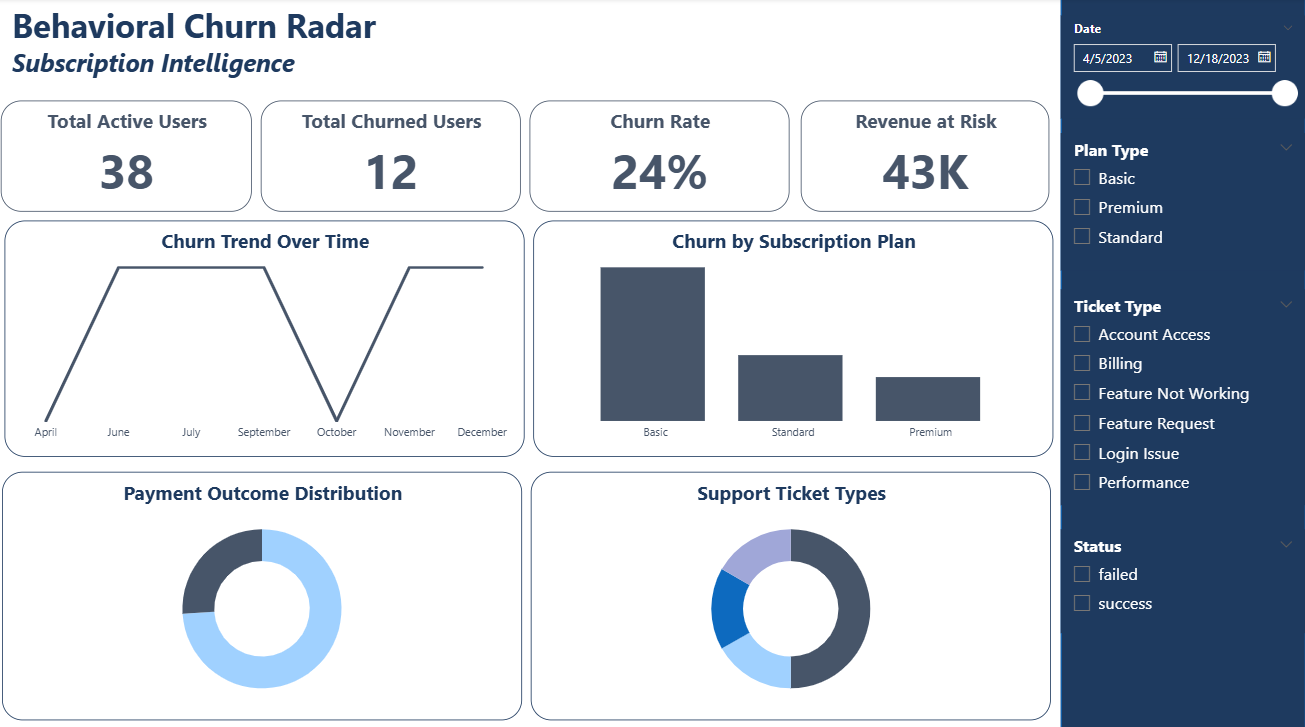

The page's visual inventory and layout, read from the dashboard file:
{"tool":"powerbi","page":{"name":"Subscription Intelligence","canvas":[1280,720],"ordinal":1},"visuals":[{"type":"textbox","box":[9.8,0,386.4,90.5],"z":0},{"type":"card","title":"Total Active Users","fields":{"Values":["CountNonNull(Subscriptions.User Id)"]},"box":[3.7,100.3,245.8,108.8],"z":1000},{"type":"card","title":"Churn Rate","fields":{"Values":["Payments.Churn Rate %"]},"box":[520.9,100.3,254.3,108.8],"z":2000},{"type":"lineChart","title":"Churn Trend Over Time","fields":{"Category":["Subscriptions.Subscription End Date.Variation.Date Hierarchy.Month"],"Y":["CountNonNull(Subscriptions.User Id)"]},"box":[7.3,217.7,508.7,231.1],"z":3000},{"type":"shape","box":[1040.6,0,239.7,720.2],"z":4000},{"type":"columnChart","title":"Churn by Subscription Plan","fields":{"Category":["Subscriptions.Plan Type"],"Y":["CountNonNull(Subscriptions.User Id)"]},"box":[524.6,217.7,508.7,231.1],"z":5000},{"type":"card","title":"Total Churned Users","fields":{"Values":["CountNonNull(Subscriptions.User Id)"]},"box":[258,100.3,254.3,108.8],"z":6000},{"type":"card","title":"Revenue at Risk","fields":{"Values":["Sum(Subscriptions.Monthly Revenue)"]},"box":[786.3,100.3,243.3,108.8],"z":7000},{"type":"donutChart","title":"Payment Outcome Distribution","fields":{"Category":["Payments.Status"],"Y":["CountNonNull(Payments.Payment Date)"]},"box":[4.9,463.5,508.7,243.3],"z":8000},{"type":"donutChart","title":"Support Ticket Types","fields":{"Category":["Support Tickets.Ticket Type"],"Y":["CountNonNull(Support Tickets.Ticket Date)"]},"box":[522.1,463.5,508.7,243.3],"z":9000},{"type":"slicer","fields":{"Values":["Subscriptions.Plan Type"]},"box":[1040.6,132.1,239.7,134.5],"z":10000},{"type":"slicer","fields":{"Values":["Support Tickets.Ticket Type"]},"box":[1040.6,284.9,239.7,211.6],"z":11000},{"type":"slicer","fields":{"Values":["Payments.Status"]},"box":[1040.6,519.7,239.7,101.5],"z":12000},{"type":"slicer","fields":{"Values":["Subscriptions.Subscription End Date"]},"box":[1040.6,17.1,239.7,100.3],"z":13000}]}

Visuals, with their boxes on the page's 1280x720 design canvas (x1, y1, x2, y2). These are canvas units, not pixel positions in the 1305x727 screenshot, which may show the page scaled, cropped or inside an application window:
textbox: 10,0,396,90
"Total Active Users" card: 4,100,250,209
"Churn Rate" card: 521,100,775,209
"Churn Trend Over Time" lineChart: 7,218,516,449
shape: 1041,0,1280,720
"Churn by Subscription Plan" columnChart: 525,218,1033,449
"Total Churned Users" card: 258,100,512,209
"Revenue at Risk" card: 786,100,1030,209
"Payment Outcome Distribution" donutChart: 5,464,514,707
"Support Ticket Types" donutChart: 522,464,1031,707
slicer - Subscriptions.Plan Type: 1041,132,1280,267
slicer - Support Tickets.Ticket Type: 1041,285,1280,496
slicer - Payments.Status: 1041,520,1280,621
slicer - Subscriptions.Subscription End Date: 1041,17,1280,117
